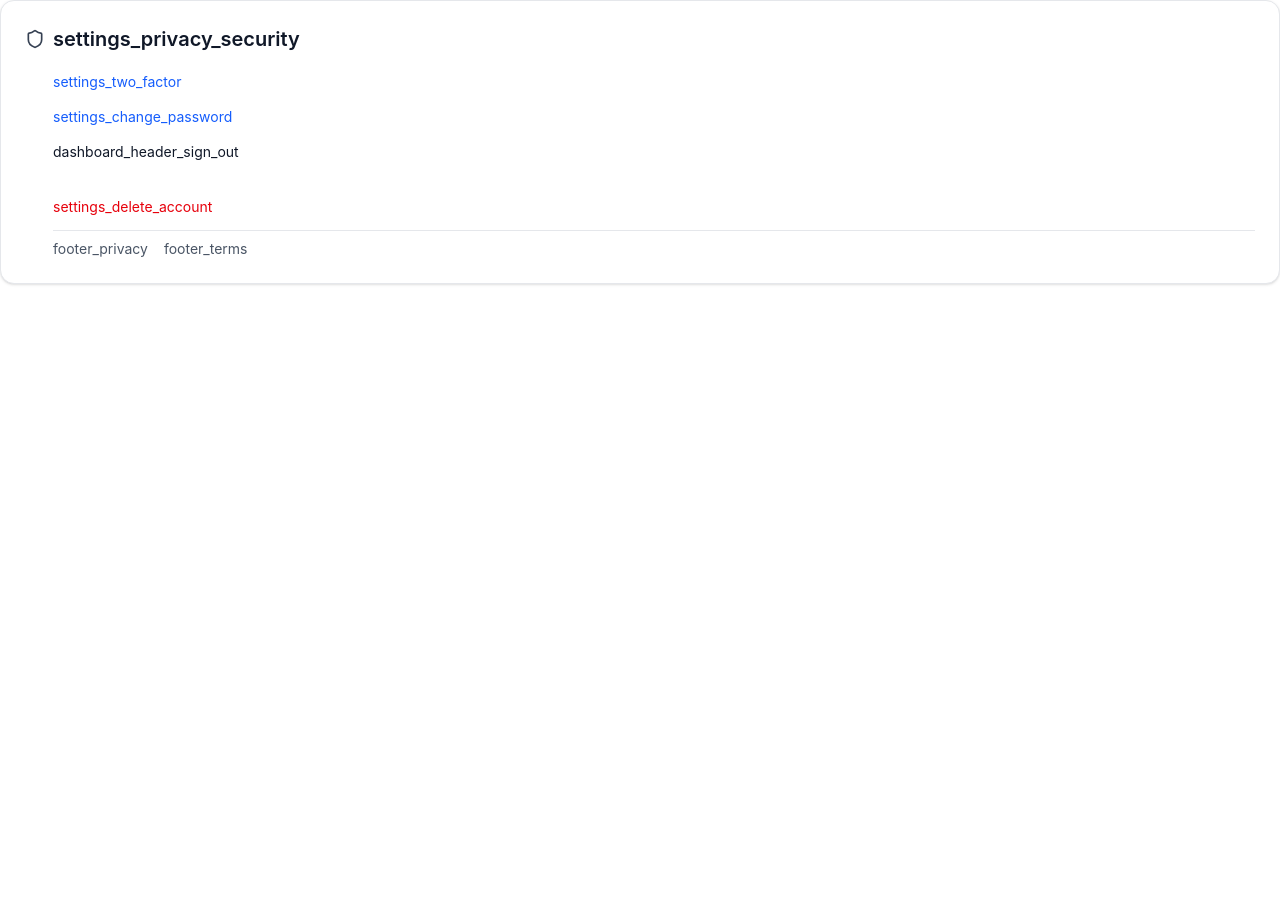
PrivacySecuritySection › opens delete account modal when button is clicked
Click the button with test id "settings-delete-account": (133,206) top-left (53, 197), bottom-right (1255, 217)
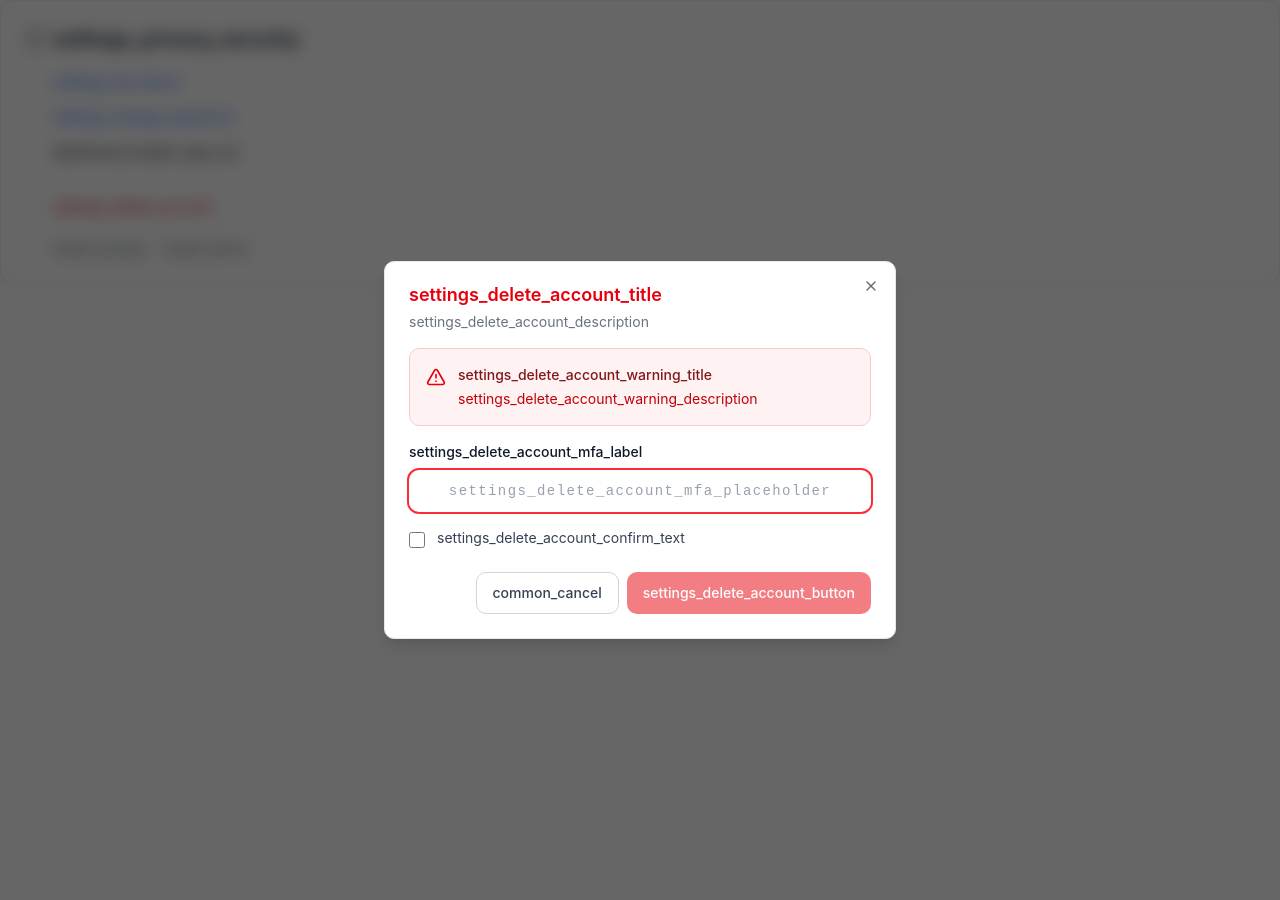
expect the dialog with test id "delete-account-modal" is shown: met, box top-left (384, 261), bottom-right (896, 639)
